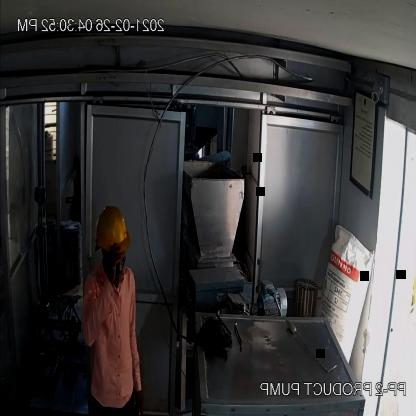helmet: (94, 199, 131, 264)
